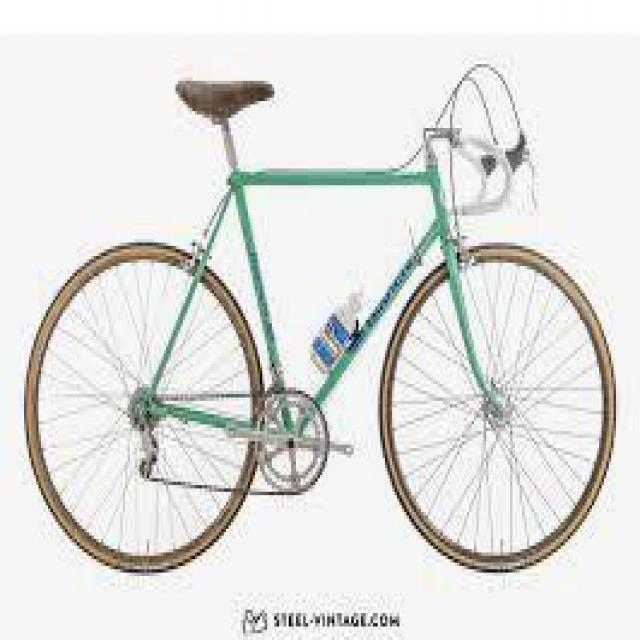bicycle: (13, 58, 605, 577)
